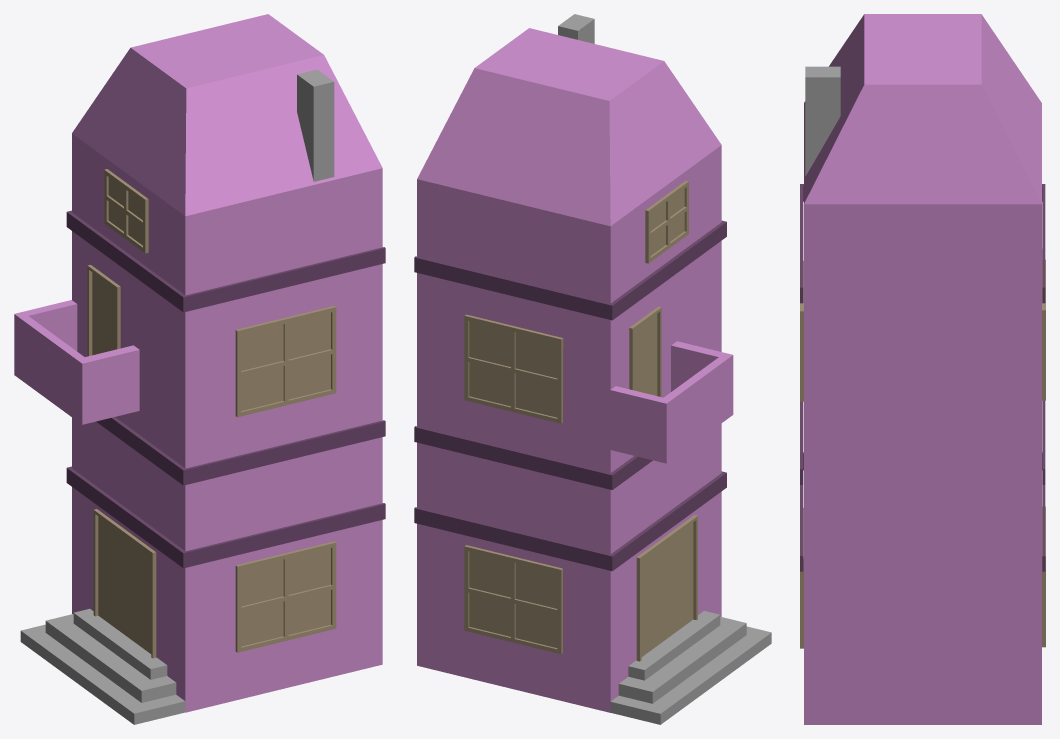
Rendered from Building01.fbx.
The picture shows the model from 3 angles, left to right: view 1: azimuth 30°, elevation 25°; view 2: azimuth 150°, elevation 25°; view 3: azimuth 270°, elevation 25°; orthographic projection. The views are drawn at different scales.
Parts seen in each view (by area): view 1: Bilding_01, Balcony, Stairs, Window5, Window7, Door3, Details, Details1, Details2, Chamine, Door4, Window4; view 2: Bilding_01, Balcony, Stairs, Window6, Window8, Door3, Details1, Details, Details2, Door4, Window4, Chamine; view 3: Bilding_01, Chamine, Details1, Details, Details2, Window6, Window5, Window8.
Boxes of the visible parts, bbox=[...] form: Bilding_01: bbox=[72, 14, 382, 712]; Balcony: bbox=[14, 300, 139, 424]; Stairs: bbox=[20, 608, 185, 724]; Window5: bbox=[235, 306, 336, 417]; Window7: bbox=[235, 541, 336, 652]; Door3: bbox=[93, 509, 156, 658]; Details: bbox=[66, 466, 385, 568]; Details1: bbox=[66, 210, 385, 312]; Details2: bbox=[96, 417, 385, 485]; Chamine: bbox=[297, 69, 334, 181]; Door4: bbox=[87, 265, 120, 356]; Window4: bbox=[104, 169, 148, 253]; Bilding_01: bbox=[417, 28, 721, 712]; Balcony: bbox=[609, 341, 733, 463]; Stairs: bbox=[610, 611, 771, 724]; Window6: bbox=[464, 314, 563, 423]; Window8: bbox=[464, 545, 562, 654]; Door3: bbox=[636, 515, 697, 661]; Details1: bbox=[414, 220, 726, 320]; Details: bbox=[414, 471, 726, 571]; Details2: bbox=[414, 426, 652, 489]; Door4: bbox=[629, 306, 661, 396]; Window4: bbox=[645, 181, 688, 263]; Chamine: bbox=[558, 14, 594, 43]; Bilding_01: bbox=[804, 14, 1041, 724]; Chamine: bbox=[805, 66, 840, 176]; Details1: bbox=[800, 184, 1045, 303]; Details: bbox=[800, 452, 1045, 571]; Details2: bbox=[800, 400, 1045, 484]; Window6: bbox=[1042, 259, 1045, 400]; Window5: bbox=[800, 260, 803, 401]; Window8: bbox=[1042, 506, 1045, 647].
Bounding box in the file's own units: 13.05 × 29.02 × 10.34.
